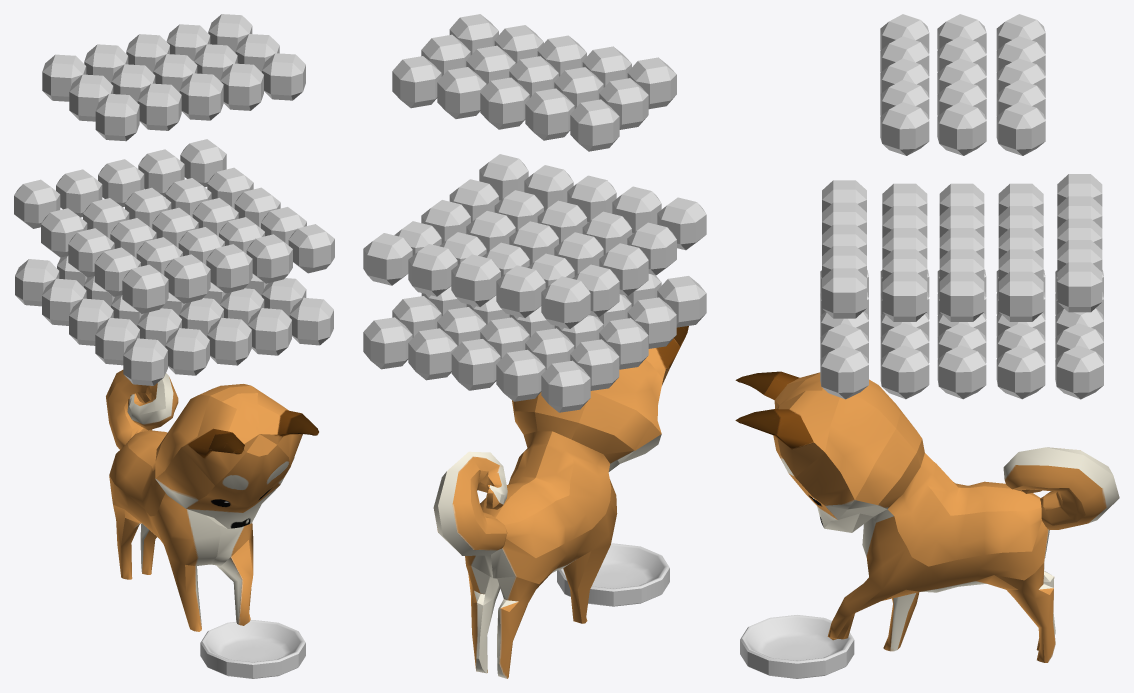
The model's file is emptyBowl_frame10.obj.
3 views of the same model, side by side, from view 1: azimuth 30°, elevation 25°; view 2: azimuth 150°, elevation 25°; view 3: azimuth 270°, elevation 25° (orthographic). The views are drawn at different scales.
Parts seen in each view (by area): view 1: newRigging1:BodzL1, FressnapfLeer:pCylinder1, FressnapfFull:pCube46, FressnapfFull:pCube45, FressnapfFull:pCube57, FressnapfFull:pCube42, FressnapfFull:pCube43, FressnapfFull:pCube49, FressnapfFull:pCube36, FressnapfFull:pCube48, FressnapfFull:pCube50, FressnapfFull:pCube60 (+44 smaller); view 2: newRigging1:BodzL1, FressnapfLeer:pCylinder1, FressnapfFull:pCube51, FressnapfFull:pCube39, FressnapfFull:pCube64, FressnapfFull:pCube55, FressnapfFull:pCube53, FressnapfFull:pCube54, FressnapfFull:pCube41, FressnapfFull:pCube38, FressnapfFull:pCube37, FressnapfFull:pCube61 (+48 smaller); view 3: newRigging1:BodzL1, FressnapfLeer:pCylinder1, FressnapfFull:pCube4, FressnapfFull:pCube10, FressnapfFull:pCube31, FressnapfFull:pCube15, FressnapfFull:pCube41, FressnapfFull:pCube36, FressnapfFull:pCube50, FressnapfFull:pCube55, FressnapfFull:pCube20, FressnapfFull:pCube25 (+42 smaller).
Part boxes in pixels (<box>): newRigging1:BodzL1: <box>106,370,318,631</box>; FressnapfLeer:pCylinder1: <box>200,620,305,678</box>; FressnapfFull:pCube46: <box>123,338,167,385</box>; FressnapfFull:pCube45: <box>95,93,139,141</box>; FressnapfFull:pCube57: <box>122,264,168,313</box>; FressnapfFull:pCube42: <box>137,83,181,130</box>; FressnapfFull:pCube43: <box>179,73,223,120</box>; FressnapfFull:pCube49: <box>165,328,209,375</box>; FressnapfFull:pCube36: <box>262,53,305,100</box>; FressnapfFull:pCube48: <box>207,318,251,365</box>; FressnapfFull:pCube50: <box>289,297,333,345</box>; FressnapfFull:pCube60: <box>206,244,252,293</box>; newRigging1:BodzL1: <box>433,326,688,678</box>; FressnapfLeer:pCylinder1: <box>557,543,669,606</box>; FressnapfFull:pCube51: <box>541,360,590,412</box>; FressnapfFull:pCube39: <box>570,99,619,151</box>; FressnapfFull:pCube64: <box>541,276,590,328</box>; FressnapfFull:pCube55: <box>363,317,412,369</box>; FressnapfFull:pCube53: <box>451,339,500,390</box>; FressnapfFull:pCube54: <box>496,349,545,401</box>; FressnapfFull:pCube41: <box>392,56,441,108</box>; FressnapfFull:pCube38: <box>480,77,529,129</box>; FressnapfFull:pCube37: <box>525,88,574,140</box>; FressnapfFull:pCube61: <box>496,265,545,317</box>; newRigging1:BodzL1: <box>735,371,1119,662</box>; FressnapfLeer:pCylinder1: <box>740,615,854,678</box>; FressnapfFull:pCube4: <box>937,345,986,399</box>; FressnapfFull:pCube10: <box>880,345,929,399</box>; FressnapfFull:pCube31: <box>937,102,986,155</box>; FressnapfFull:pCube15: <box>996,345,1045,399</box>; FressnapfFull:pCube41: <box>996,102,1045,155</box>; FressnapfFull:pCube36: <box>880,102,929,155</box>; FressnapfFull:pCube50: <box>820,345,868,399</box>; FressnapfFull:pCube55: <box>1055,345,1103,399</box>; FressnapfFull:pCube20: <box>998,271,1043,321</box>; FressnapfFull:pCube25: <box>882,271,927,321</box>.
Bounding box in the file's own units: 5.73 × 14.49 × 8.55.
3 materials, 2 textured.
